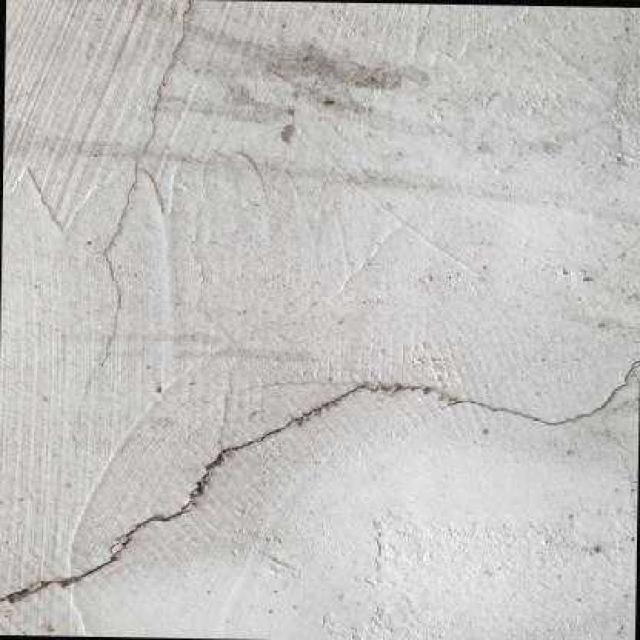D00: (0, 352, 639, 606)
